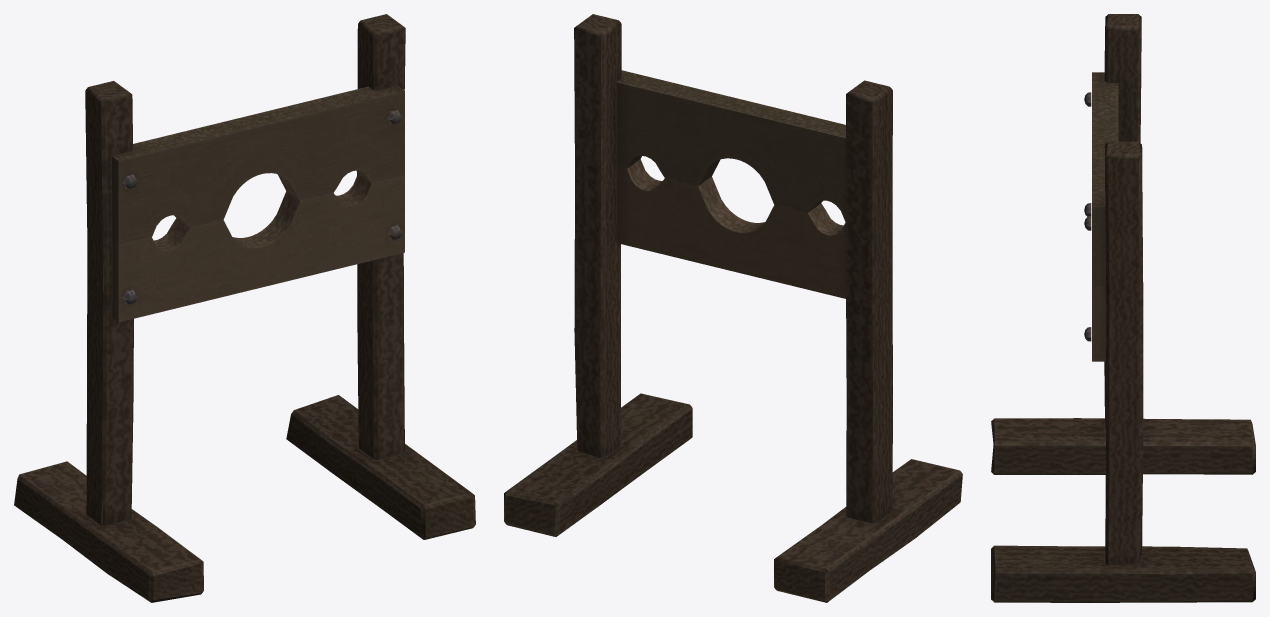
File: stocks.glb
3 views of the same model, side by side, from view 1: azimuth 30°, elevation 25°; view 2: azimuth 150°, elevation 25°; view 3: azimuth 270°, elevation 25° (orthographic). The views are drawn at different scales.
Parts seen in each view (by area): view 1: stocks; view 2: stocks; view 3: stocks.
Part boxes in pixels (x1,y1,x2,y2): stocks: [14, 14, 475, 602]; stocks: [504, 14, 962, 602]; stocks: [991, 14, 1255, 602].
Bounding box in the file's own units: 0.8925 × 1.2 × 0.65.
Materials: 1 (1 with a texture image).
